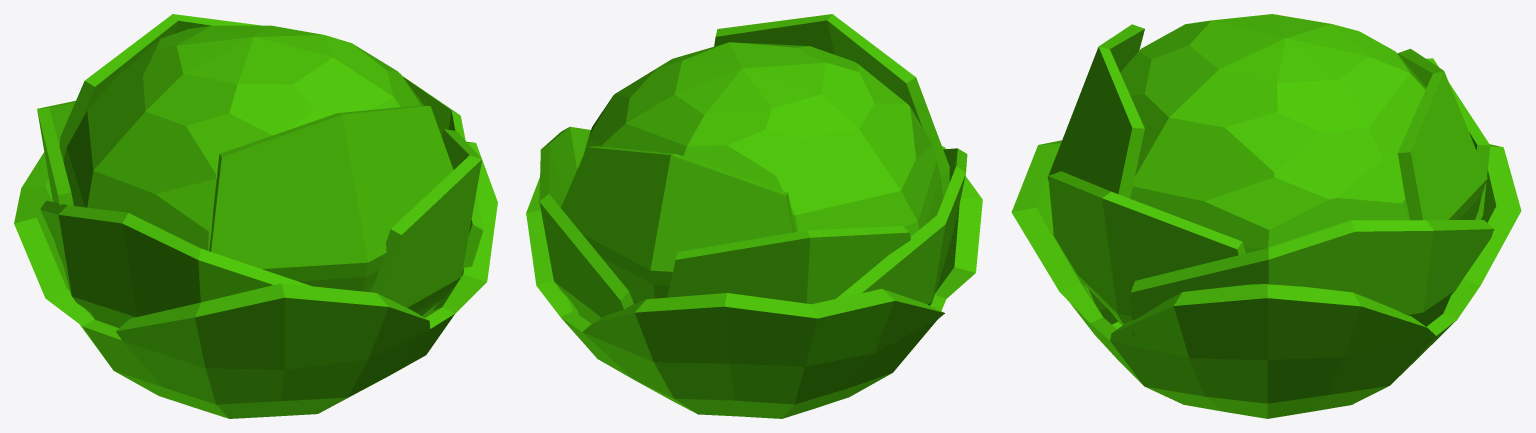
Rendered from cabbage.fbx.
The picture shows the model from 3 angles, left to right: view 1: azimuth 30°, elevation 25°; view 2: azimuth 150°, elevation 25°; view 3: azimuth 270°, elevation 25°; orthographic projection. The views are drawn at different scales.
Visible parts, largest first — view 1: cabbage_geo; view 2: cabbage_geo; view 3: cabbage_geo.
Part boxes in pixels (x1=…): cabbage_geo: x1=14, y1=14, x2=497, y2=418; cabbage_geo: x1=526, y1=14, x2=982, y2=418; cabbage_geo: x1=1011, y1=14, x2=1521, y2=418.
Bounding box in the file's own units: 19.68 × 15.57 × 20.16.
